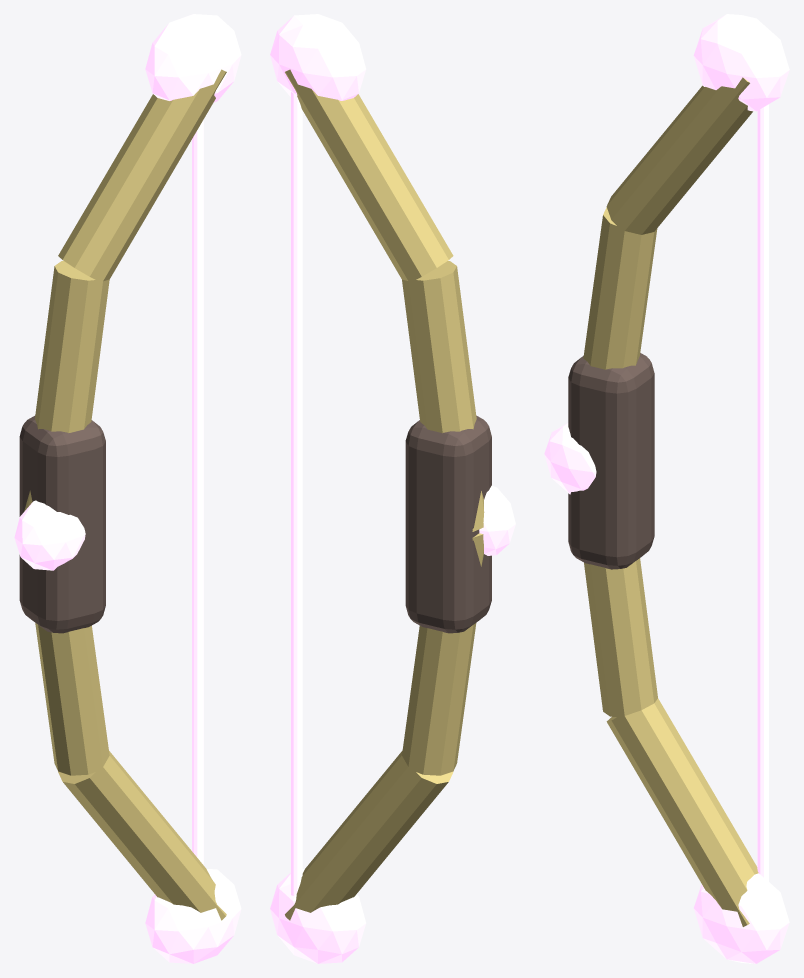
The model's file is comet-string.glb.
3 views of the same model, side by side, from view 1: azimuth 30°, elevation 25°; view 2: azimuth 150°, elevation 25°; view 3: azimuth 330°, elevation 25° (orthographic).
Parts seen in each view (by area): view 1: BowGrip, BowLimb_3, BowLimb_0, BowLimb_2, BowString, BowLimb_1, BowCometTop, BowCometBottom, BowGem; view 2: BowGrip, BowLimb_3, BowString, BowLimb_0, BowLimb_2, BowLimb_1, BowCometTop, BowCometBottom, BowGem; view 3: BowGrip, BowLimb_0, BowLimb_3, BowString, BowLimb_1, BowLimb_2, BowCometTop, BowCometBottom, BowGem.
Part boxes in pixels (bbox=[...]): BowGrip: bbox=[19, 415, 105, 633]; BowLimb_3: bbox=[58, 69, 226, 280]; BowLimb_0: bbox=[58, 751, 226, 920]; BowLimb_2: bbox=[24, 261, 109, 511]; BowString: bbox=[192, 119, 203, 865]; BowLimb_1: bbox=[30, 566, 109, 775]; BowCometTop: bbox=[145, 14, 241, 102]; BowCometBottom: bbox=[145, 868, 241, 963]; BowGem: bbox=[14, 500, 85, 570]; BowGrip: bbox=[405, 415, 491, 633]; BowLimb_3: bbox=[285, 69, 453, 282]; BowString: bbox=[290, 92, 302, 895]; BowLimb_0: bbox=[285, 750, 453, 920]; BowLimb_2: bbox=[402, 261, 484, 531]; BowLimb_1: bbox=[402, 533, 483, 775]; BowCometTop: bbox=[270, 14, 366, 100]; BowCometBottom: bbox=[270, 868, 366, 963]; BowGem: bbox=[479, 485, 515, 555]; BowGrip: bbox=[568, 353, 654, 569]; BowLimb_0: bbox=[606, 698, 758, 926]; BowLimb_3: bbox=[606, 77, 752, 234]; BowString: bbox=[757, 104, 768, 881]; BowLimb_1: bbox=[584, 558, 657, 717]; BowLimb_2: bbox=[583, 207, 657, 369]; BowCometTop: bbox=[693, 14, 789, 111]; BowCometBottom: bbox=[693, 873, 789, 963]; BowGem: bbox=[544, 423, 596, 494].
Size of the model in its own units: 0.6978 by 2.78 by 0.22.
